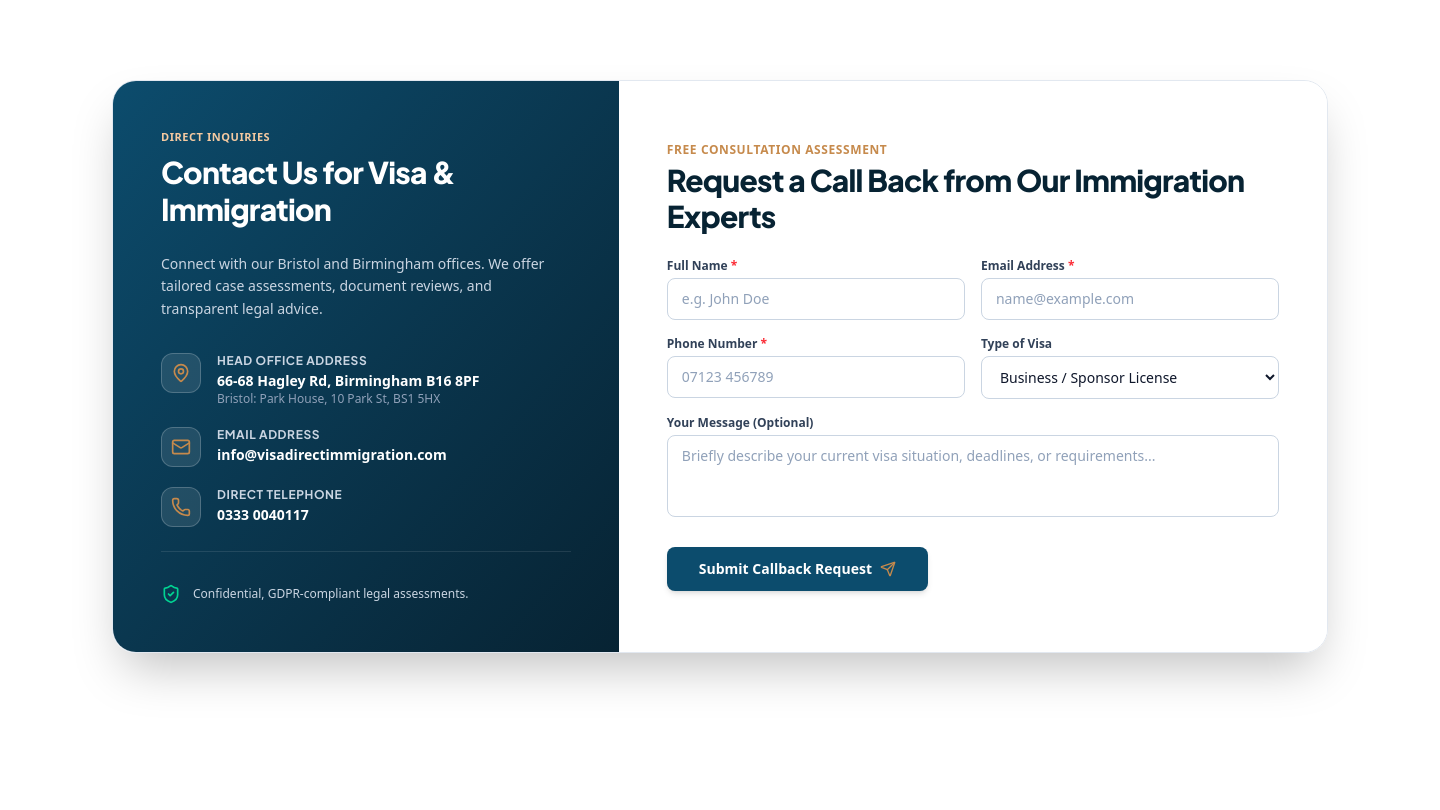
Test: CallbackFormSection Component › shows validation errors when submitted with all empty fields
The image size is (1440, 810).
Click the button "Submit Callback Request".
click(797, 569)  # box [667, 547, 928, 591]
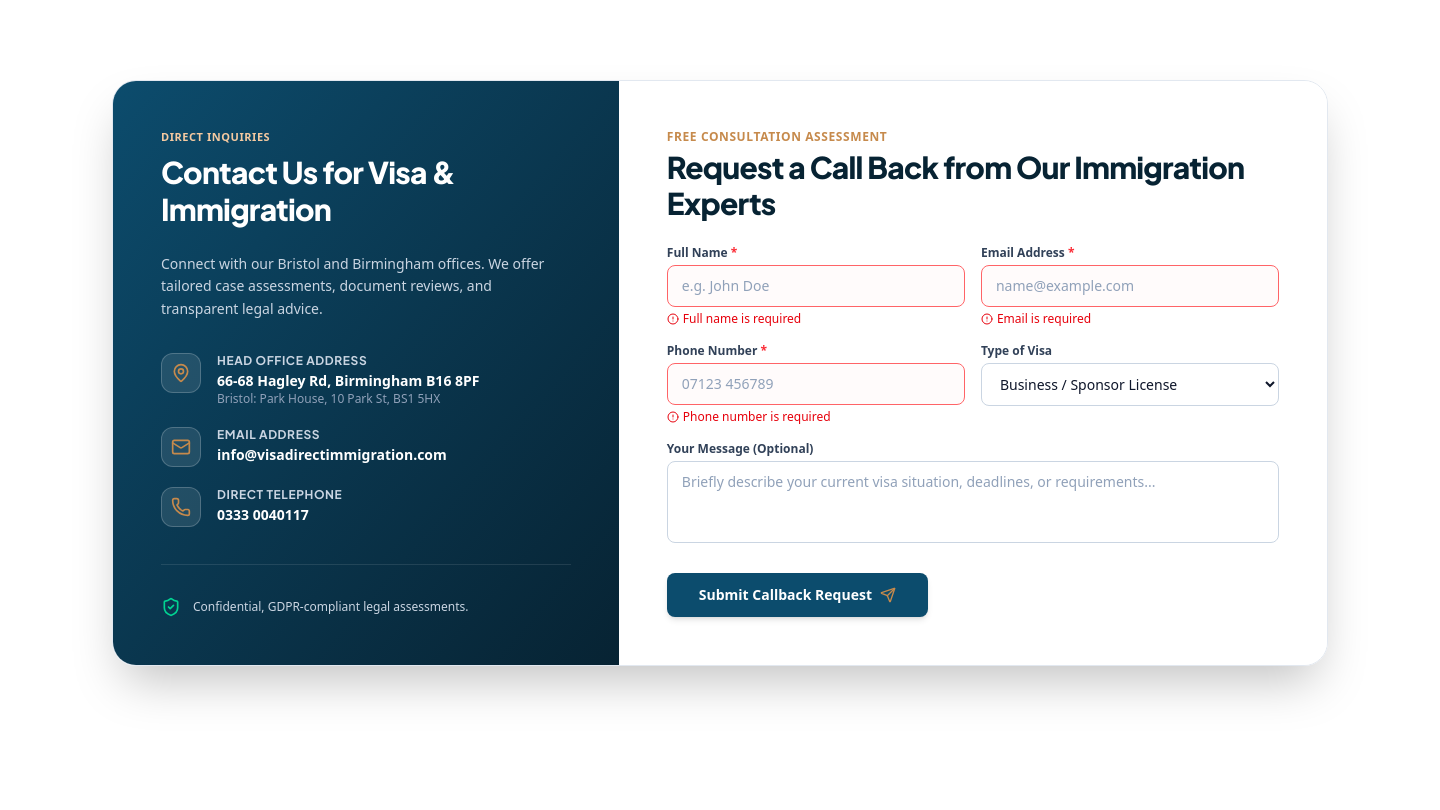
Now the text "Full name is required" is shown, box [683, 311, 801, 327]
Now the text "Email is required" is shown, box [997, 311, 1091, 327]
Now the text "Phone number is required" is shown, box [683, 409, 830, 425]
